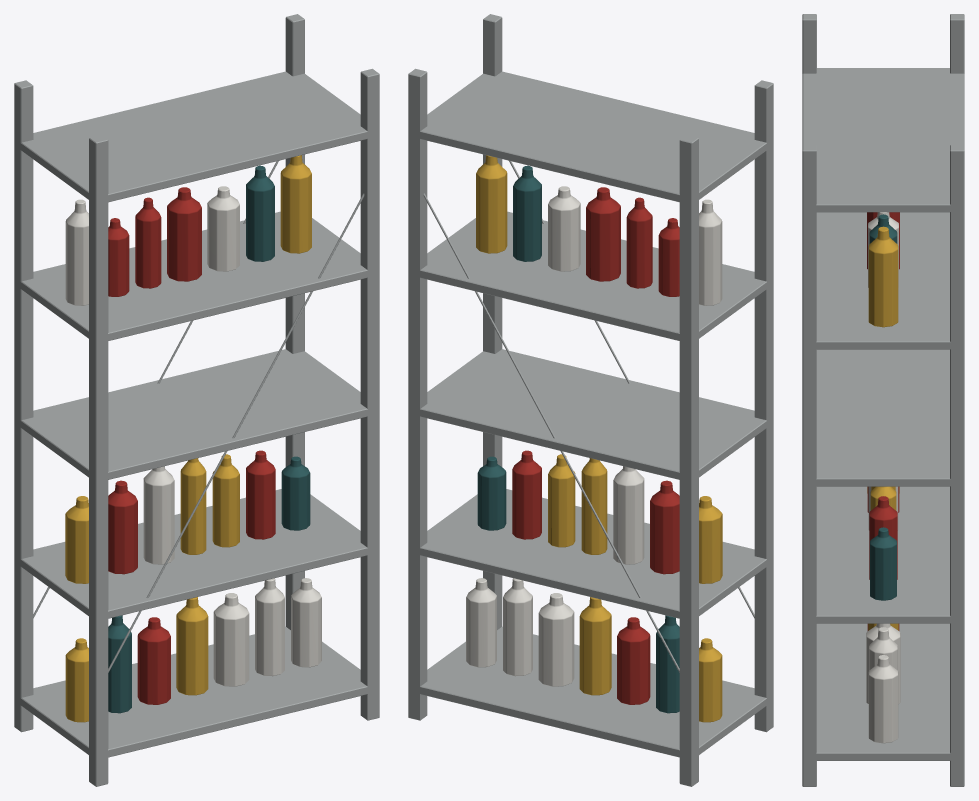
File: prop_shelving_cleaning.glb
3 views of the same model, side by side, from view 1: azimuth 30°, elevation 25°; view 2: azimuth 150°, elevation 25°; view 3: azimuth 270°, elevation 25° (orthographic).
Visible parts, largest first — view 1: Shelving; view 2: Shelving; view 3: Shelving.
Part boxes in pixels (x1,y1,x2,y2): Shelving: (14, 14, 379, 786); Shelving: (408, 14, 773, 786); Shelving: (802, 14, 964, 786).
Size of what is drawn, in the model's own units: 0.9 by 1.95 by 0.45.
